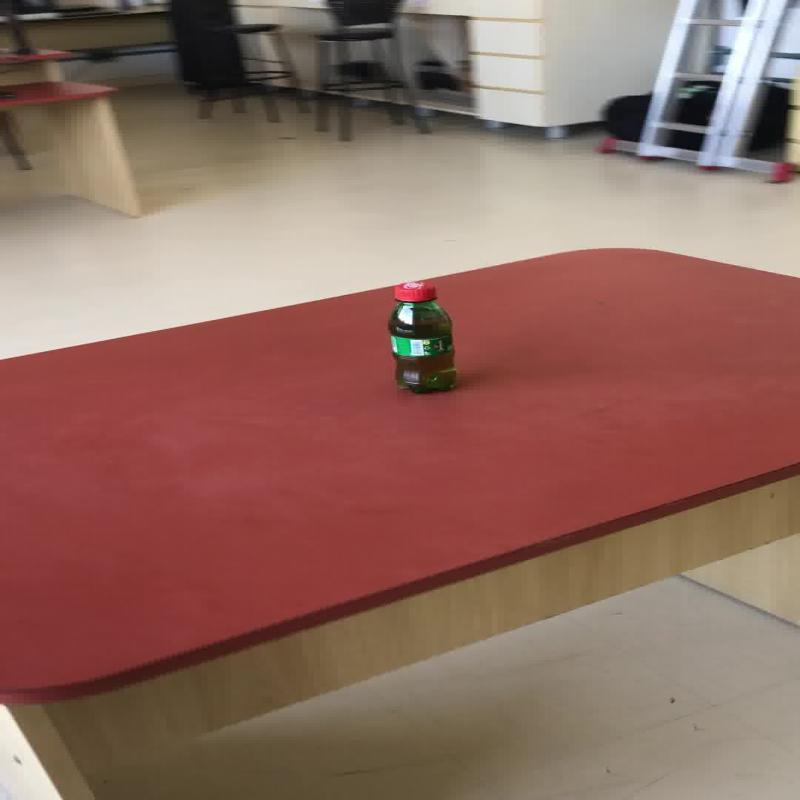guarana: (385, 279, 456, 393)
